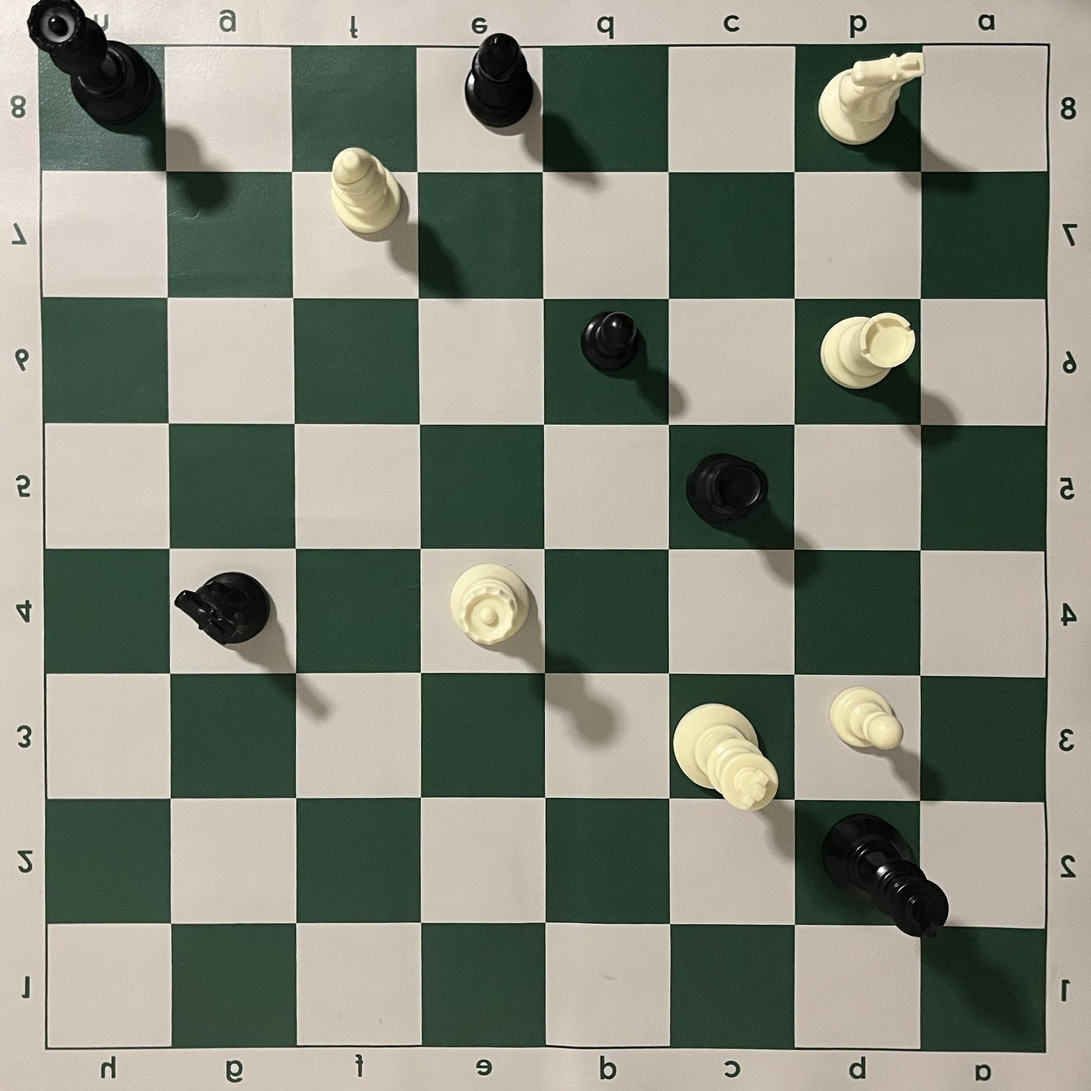black_bishop: (464, 32, 533, 130)
black_king: (822, 814, 950, 940)
black_knight: (174, 572, 271, 647)
black_pawn: (580, 311, 642, 374)
black_queen: (26, 0, 158, 126)
black_rook: (686, 453, 770, 523)
white_bishop: (331, 147, 402, 234)
white_king: (672, 703, 780, 812)
white_knight: (818, 51, 925, 146)
white_pawn: (829, 686, 905, 751)
white_queen: (449, 563, 529, 646)
white_rook: (819, 312, 916, 389)
